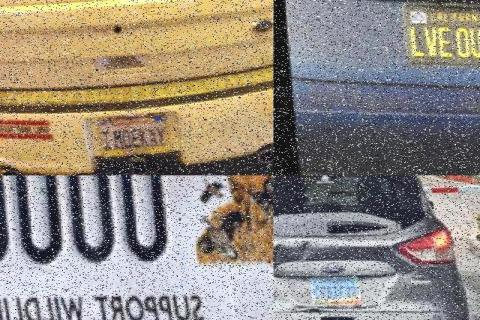LicensePlate: (0, 176, 188, 286), (400, 0, 480, 72), (99, 109, 173, 155), (310, 273, 362, 303)
